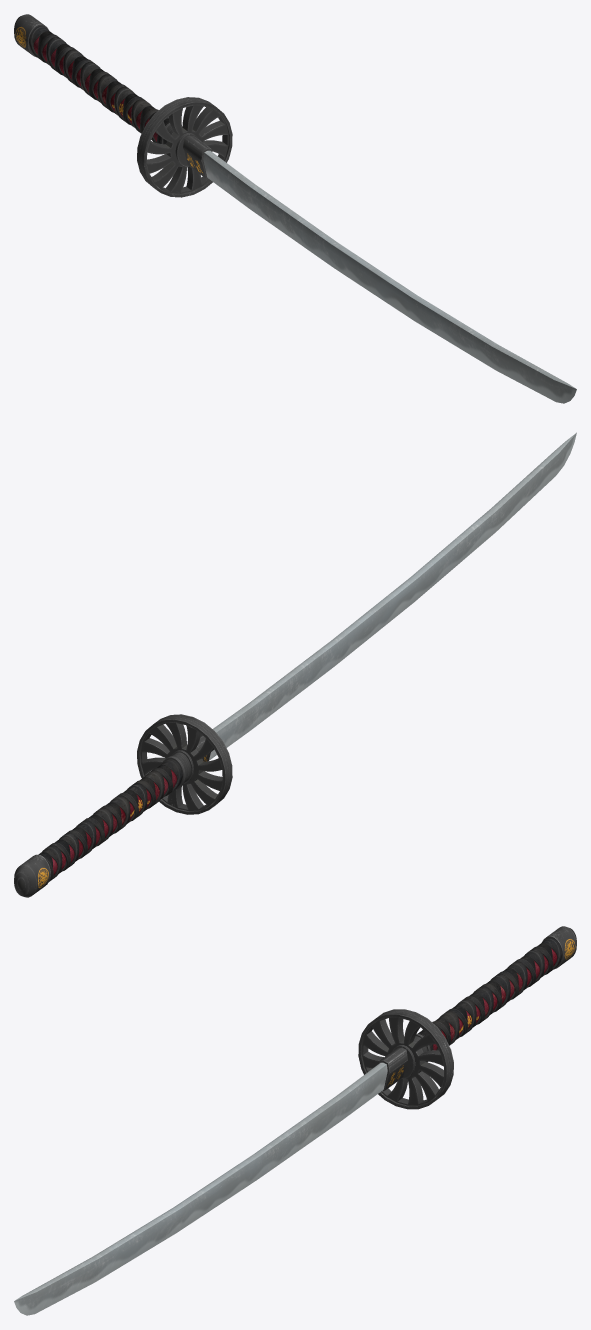
Rendered from Katana_Low_Poly_Game_Ready.glb.
3 renders of one model, top to bottom at view 1: azimuth 30°, elevation 25°; view 2: azimuth 150°, elevation 25°; view 3: azimuth 330°, elevation 25°, orthographic.
Visible parts, largest first — view 1: blade_low_Katana_0, tsuba_low_Katana_0, same1_low_Katana_0, tsuka_low_Katana_0, habaki_low_Katana_0, kasira_low_Katana_0; view 2: blade_low_Katana_0, tsuba_low_Katana_0, same1_low_Katana_0, kasira_low_Katana_0, tsuka_low_Katana_0; view 3: blade_low_Katana_0, tsuba_low_Katana_0, same1_low_Katana_0, tsuka_low_Katana_0, habaki_low_Katana_0, kasira_low_Katana_0.
Boxes of the visible parts, x1,y1,x2,y2 form: blade_low_Katana_0: [203, 150, 576, 403]; tsuba_low_Katana_0: [137, 97, 232, 197]; same1_low_Katana_0: [37, 31, 168, 142]; tsuka_low_Katana_0: [33, 36, 157, 141]; habaki_low_Katana_0: [183, 135, 212, 179]; kasira_low_Katana_0: [14, 14, 48, 57]; blade_low_Katana_0: [209, 432, 576, 760]; tsuba_low_Katana_0: [137, 714, 232, 814]; same1_low_Katana_0: [41, 765, 172, 879]; kasira_low_Katana_0: [14, 854, 50, 897]; tsuka_low_Katana_0: [51, 769, 177, 875]; blade_low_Katana_0: [14, 1062, 387, 1315]; tsuba_low_Katana_0: [358, 1009, 453, 1109]; same1_low_Katana_0: [422, 943, 553, 1050]; tsuka_low_Katana_0: [433, 948, 557, 1050]; habaki_low_Katana_0: [378, 1047, 407, 1091]; kasira_low_Katana_0: [542, 926, 576, 969].
Bounding box in the file's own units: 6.12 × 6.12 × 66.73.
Materials: 1 (1 with a texture image).
